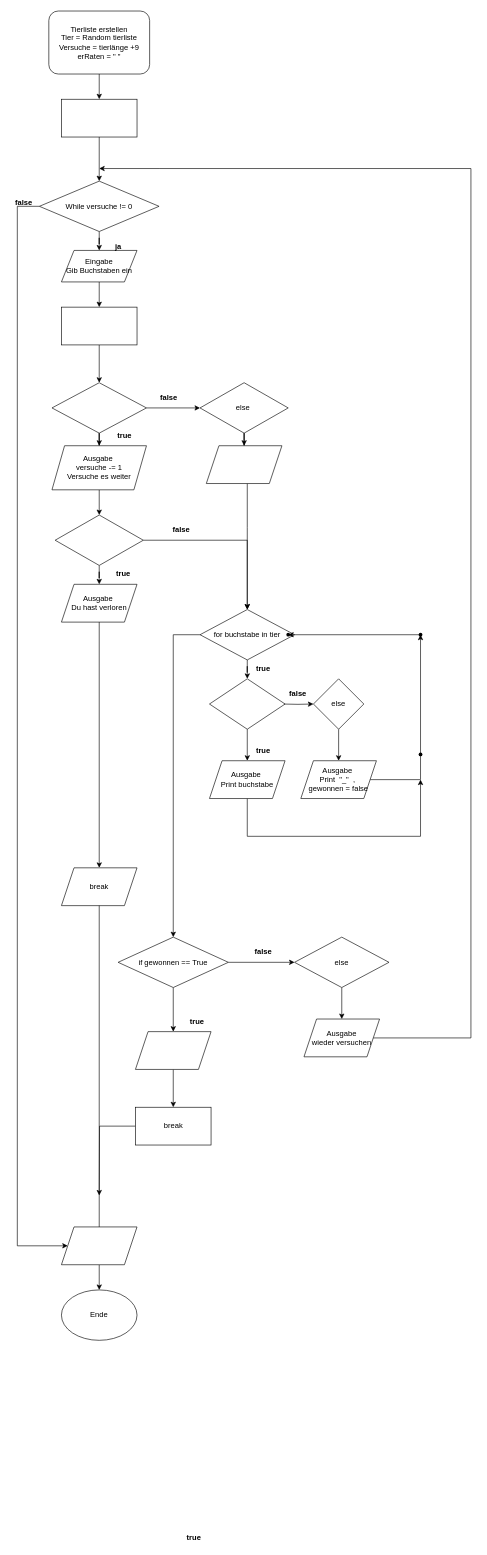
The diagram is 487 pixels wide and 1555 high, and some of its shapes have lost their labels. The shapes that lost their labels are listed below. From the top down, each one's box as (x1, y1, x2, y2) in pixels, then its label:
(61, 99, 137, 137): Ausgabe Print = Das Spiel Startet
(61, 306, 137, 345): erraten = erraten + raten gewonnen = True
(51, 382, 146, 433): If raten not in tier
(206, 445, 282, 484): Ausgabe Du hast richtig geraten
(54, 514, 143, 565): if versuche == 0
(209, 678, 285, 729): if buchstabe in erraten
(135, 1031, 211, 1069): Ausgabe Du hast Gewonnen
(61, 1226, 137, 1265): Ausgabe Tiernamen
